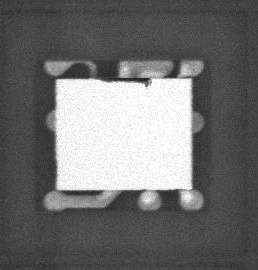DIE_BROKEN: (100, 74, 154, 88)
